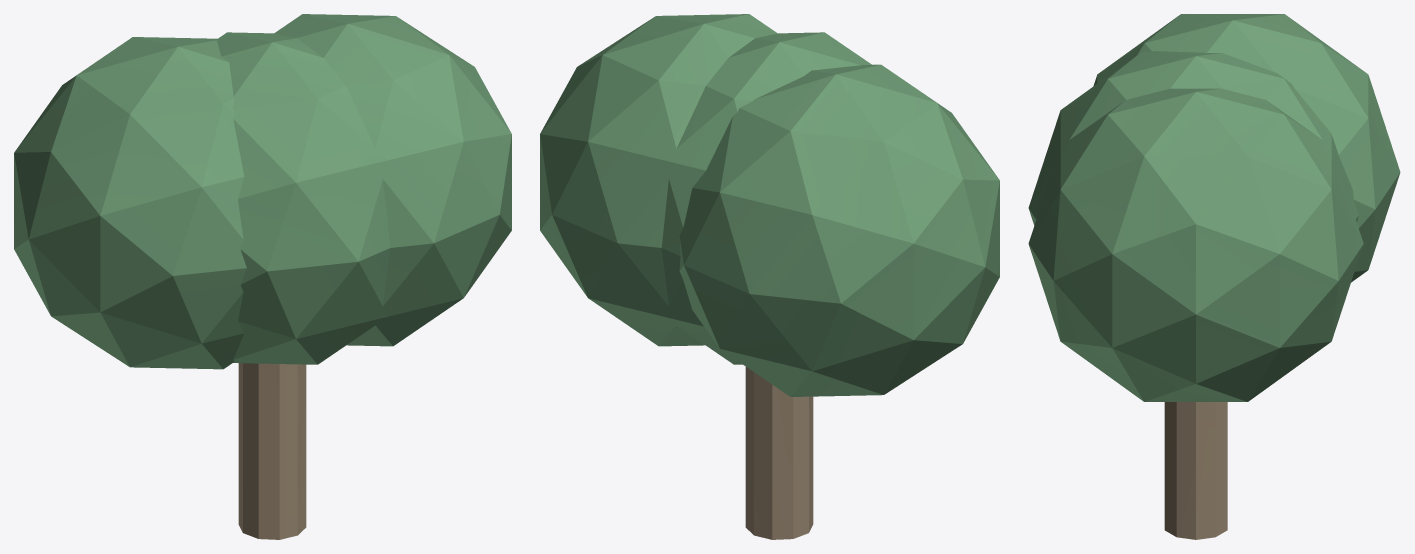
The model's file is broadleaf-05.glb.
3 views of the same model, side by side, from view 1: azimuth 30°, elevation 25°; view 2: azimuth 150°, elevation 25°; view 3: azimuth 270°, elevation 25° (orthographic). The views are drawn at different scales.
Visible parts, largest first — view 1: world; view 2: world; view 3: world.
Part boxes in pixels (<box>): world: <box>14,14,511,539</box>; world: <box>540,14,999,539</box>; world: <box>1028,14,1400,539</box>.
Bounding box in the file's own units: 1.37 × 1.41 × 1.01.
